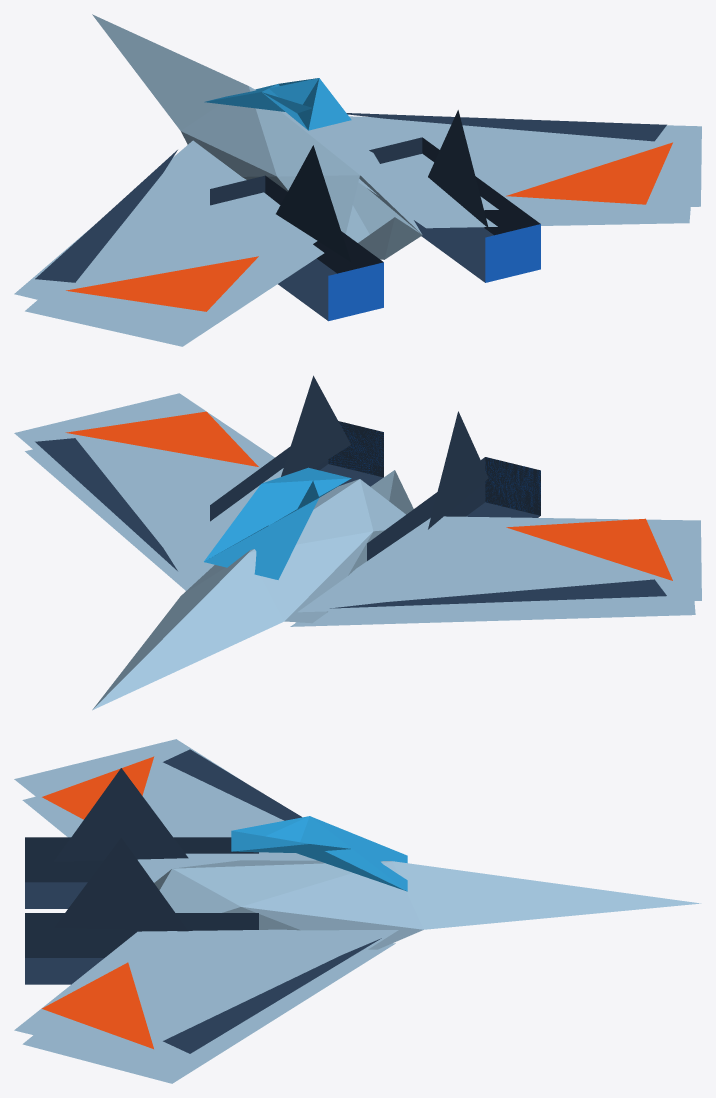
The model's file is pilot.obj.
The picture shows the model from 3 angles, top to bottom: view 1: azimuth 30°, elevation 25°; view 2: azimuth 150°, elevation 25°; view 3: azimuth 270°, elevation 25°; orthographic projection.
Parts seen in each view (by area): view 1: wings, fuselage, engine_nacelles, wing_panels, dorsal_fins, cockpit; view 2: wings, fuselage, wing_panels, engine_nacelles, cockpit, dorsal_fins; view 3: wings, fuselage, dorsal_fins, engine_nacelles, wing_panels, cockpit.
Part boxes in pixels (x1,y1,x2,y2): wings: [14, 113, 701, 346]; fuselage: [92, 14, 422, 259]; engine_nacelles: [210, 137, 540, 321]; wing_panels: [66, 142, 672, 311]; dorsal_fins: [276, 110, 488, 261]; cockpit: [204, 78, 351, 130]; wings: [14, 393, 701, 626]; fuselage: [92, 470, 413, 710]; wing_panels: [65, 411, 672, 580]; engine_nacelles: [210, 421, 540, 560]; cockpit: [204, 467, 351, 579]; dorsal_fins: [281, 375, 488, 529]; wings: [14, 739, 398, 1083]; fuselage: [154, 860, 701, 949]; dorsal_fins: [54, 768, 188, 931]; engine_nacelles: [25, 837, 258, 984]; wing_panels: [42, 756, 154, 1049]; cockpit: [231, 816, 407, 891].
Bounding box in the file's own units: 5.7 × 1.06 × 5.
